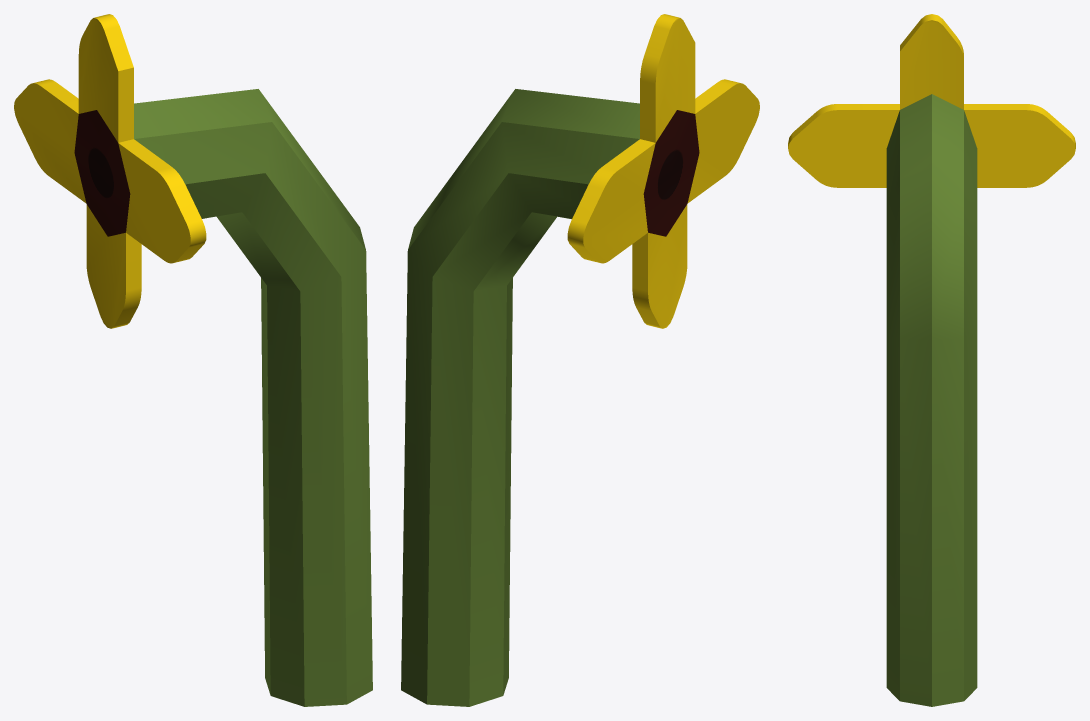
The model's file is New Flower Model.fbx.
The picture shows the model from 3 angles, left to right: view 1: azimuth 30°, elevation 25°; view 2: azimuth 150°, elevation 25°; view 3: azimuth 270°, elevation 25°; orthographic projection. The views are drawn at different scales.
Visible parts, largest first — view 1: New_Flower1; view 2: New_Flower1; view 3: New_Flower1.
Part boxes in pixels (bbox=[...]): New_Flower1: bbox=[14, 14, 372, 706]; New_Flower1: bbox=[401, 14, 759, 706]; New_Flower1: bbox=[788, 14, 1075, 706].
Bounding box in the file's own units: 1.95 × 4.95 × 2.2.
Materials: 1 (1 with a texture image).
